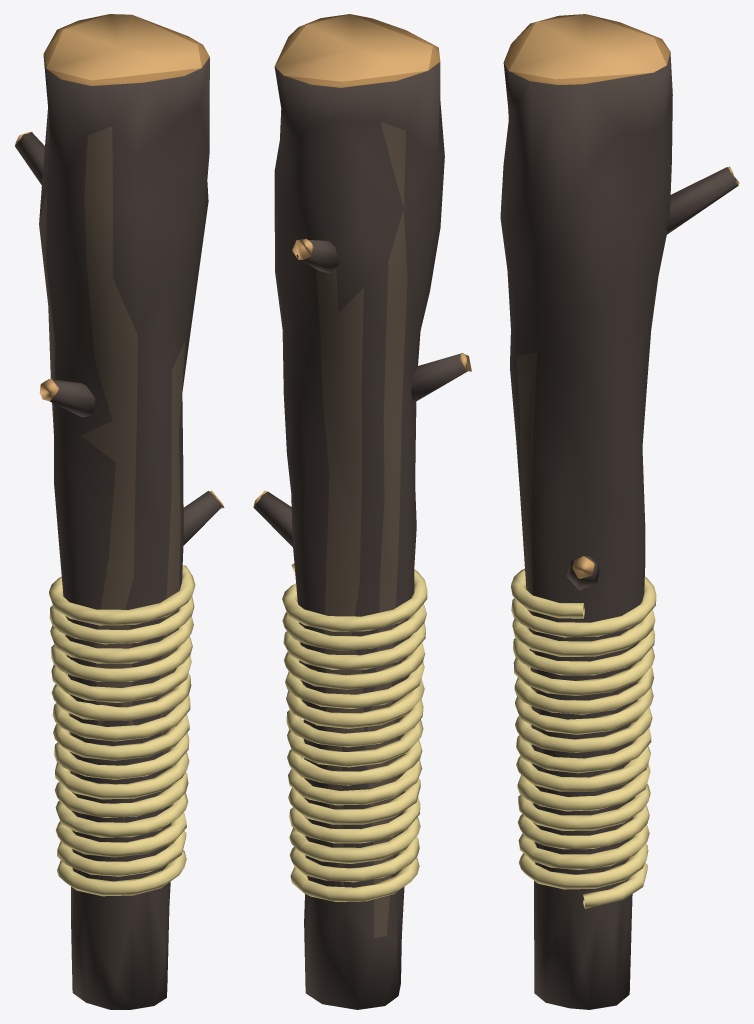
The model's file is Club.fbx.
The picture shows the model from 3 angles, left to right: view 1: azimuth 30°, elevation 25°; view 2: azimuth 150°, elevation 25°; view 3: azimuth 270°, elevation 25°; orthographic projection.
Visible parts, largest first — view 1: Club; view 2: Club; view 3: Club.
Part boxes in pixels (box(x1,y1,x2,y2)): Club: box(15, 14, 224, 1009); Club: box(253, 14, 471, 1009); Club: box(500, 14, 739, 1009).
Bounding box in the file's own units: 0.3316 × 1.54 × 0.3464.
